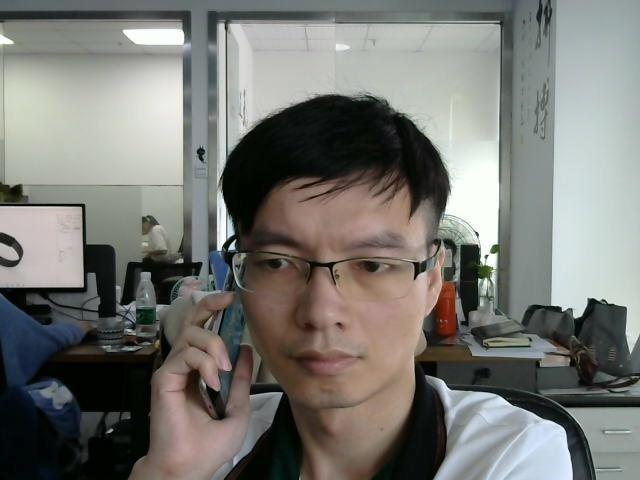hand: (152, 293, 256, 452)
